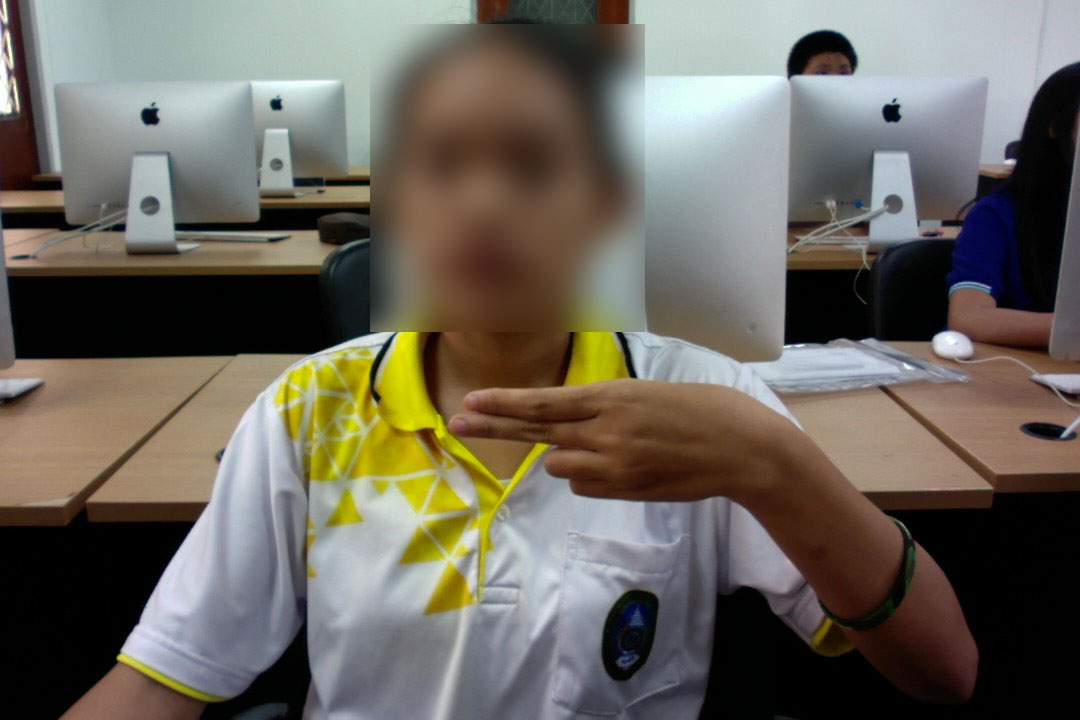hor: (441, 370, 801, 511)
